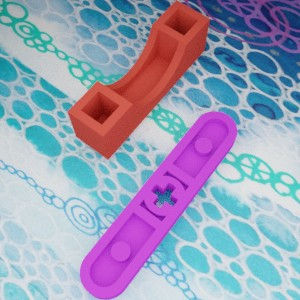lego: (79, 111, 237, 300), (67, 0, 210, 160)
